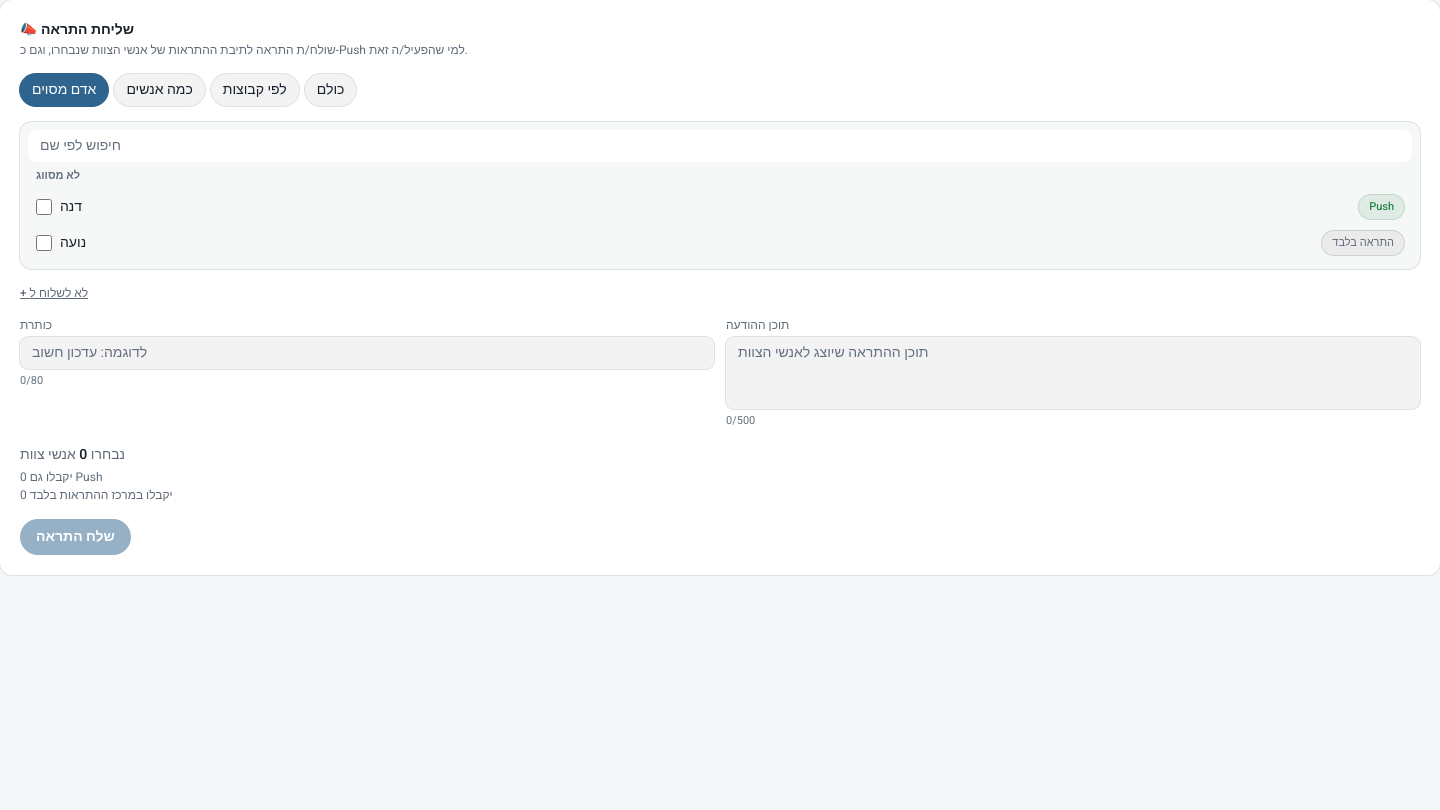
ManagerBroadcastComposer › 'כולם' mode hides the picker and enables send without any manual selection once title/body are filled
Click the radio button labelled "כולם" at (331, 90), box [305,74,356,106]
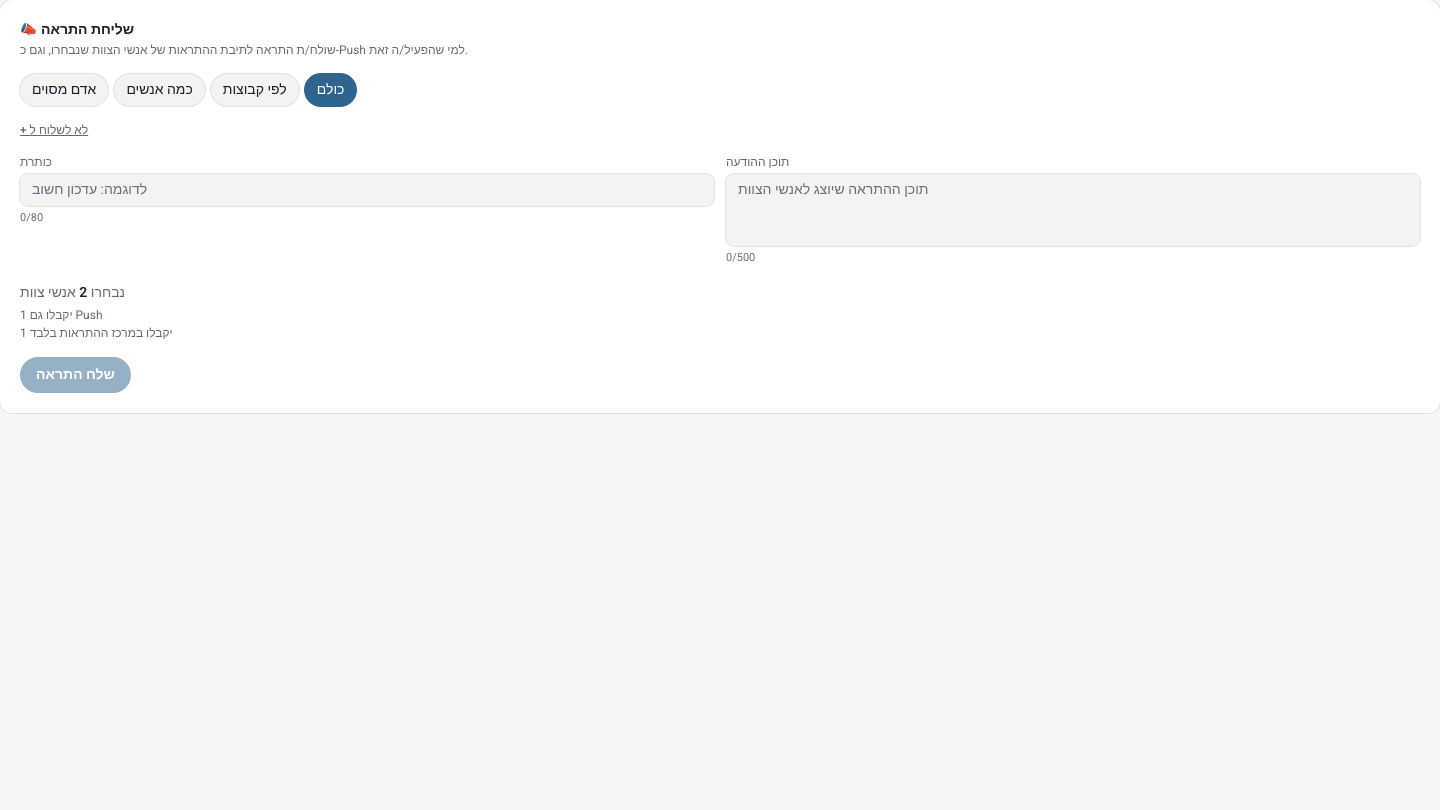
Type "כותרת" into the field with placeholder "לדוגמה: עדכון חשוב" at (367, 190), box [20,174,714,206]
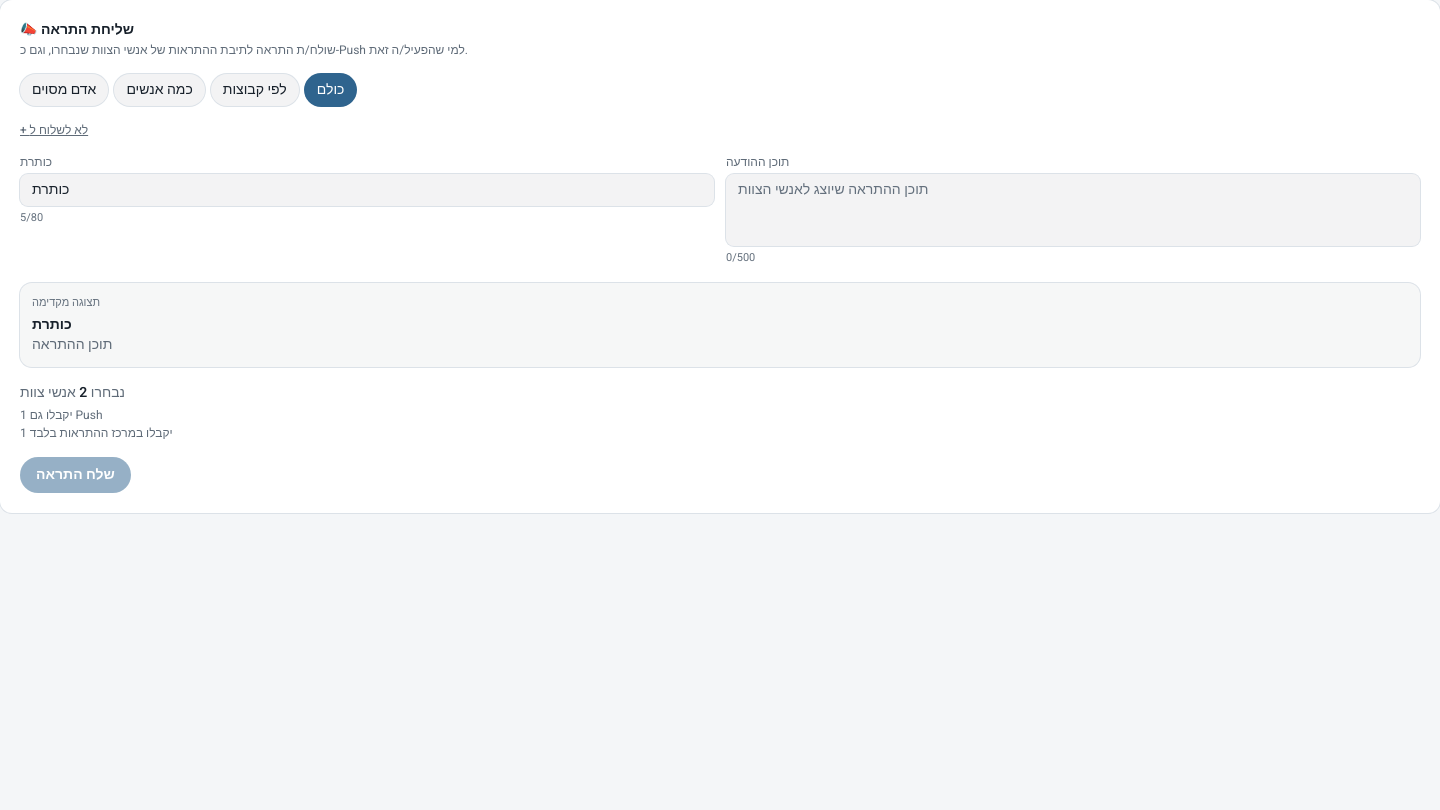
Type "תוכן" into the text box with placeholder "תוכן ההתראה שיוצג לאנשי הצוות" at (1073, 210), box [726,174,1420,246]
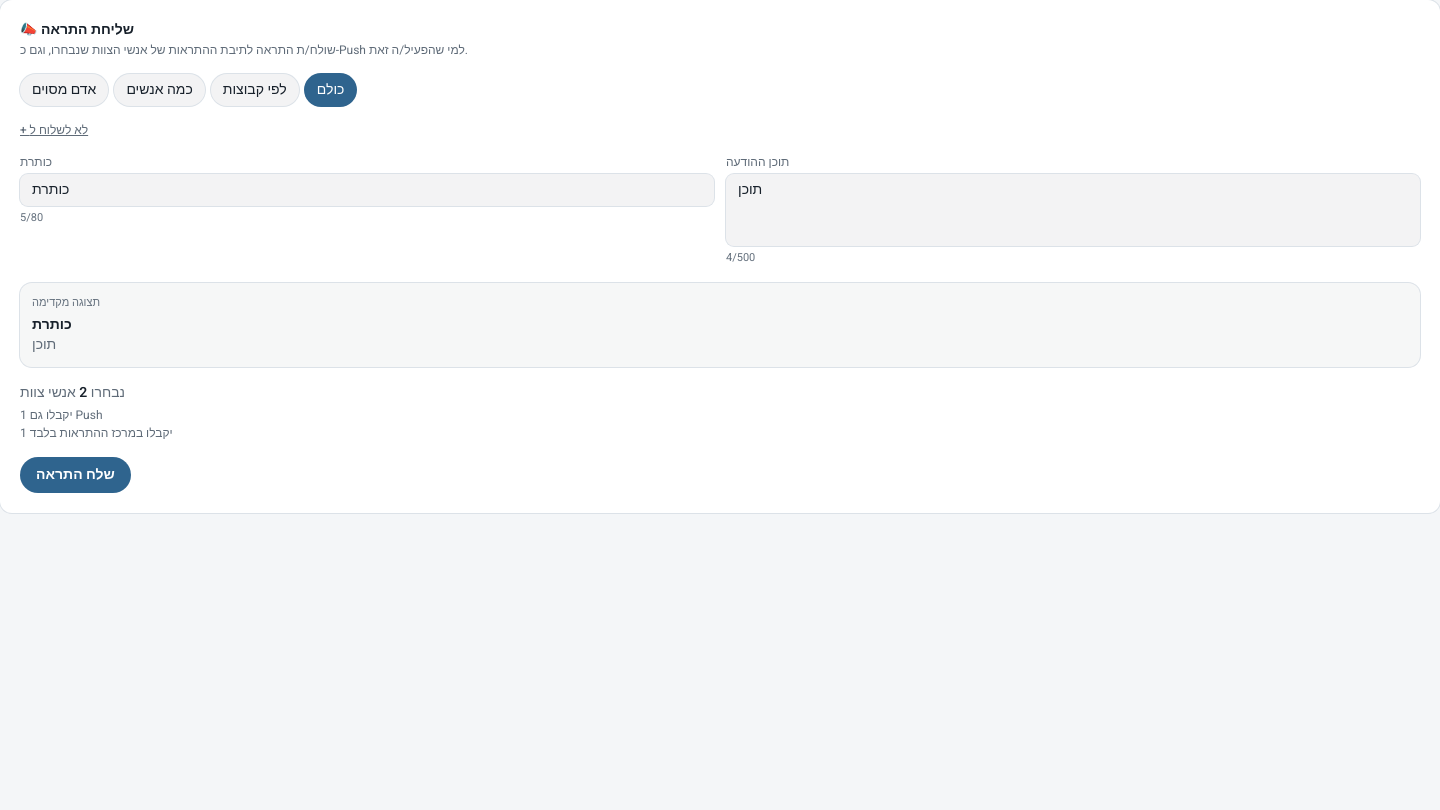
expect the button "שלח התראה" is enabled: met, box [20,457,131,493]
